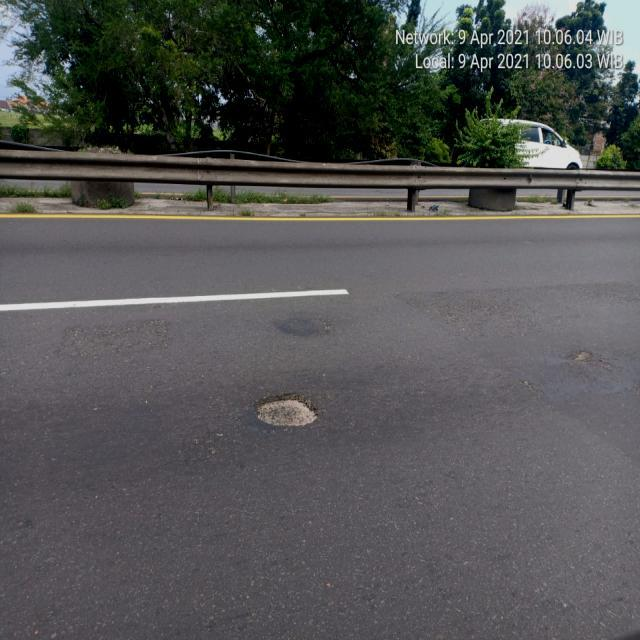Buraco: (250, 390, 323, 431), (564, 348, 596, 364)
